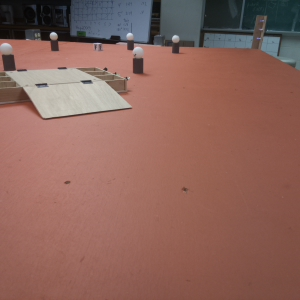blockF: (92, 41, 104, 53)
corner: (253, 15, 269, 51)
obstacle: (130, 46, 148, 75), (1, 42, 17, 70), (48, 32, 59, 51), (171, 33, 179, 55), (127, 33, 134, 50)
slope: (24, 81, 133, 117)
